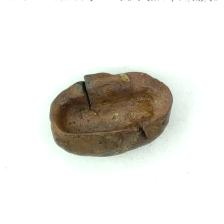NG: (51, 71, 169, 141)
